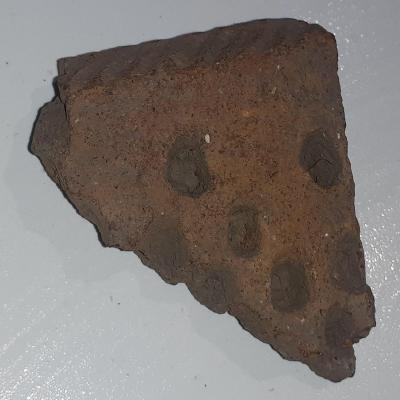archeology: (35, 19, 376, 384)
